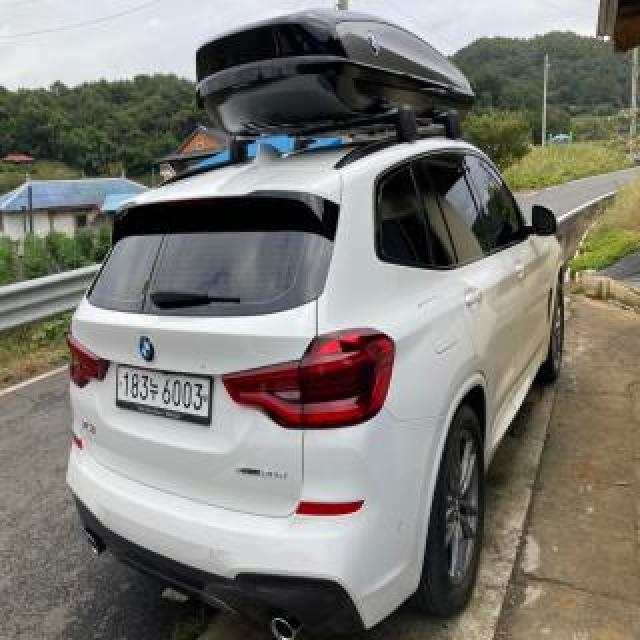car: (59, 0, 581, 640)
illegal_plate: (121, 361, 213, 425)
